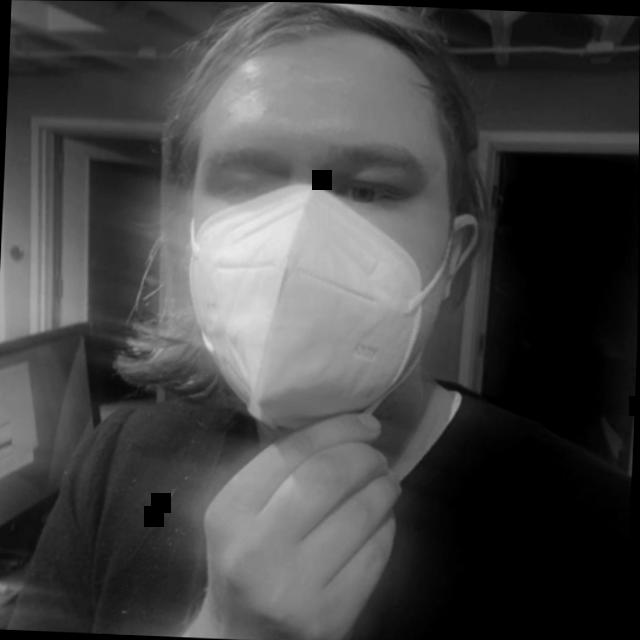Mask: (105, 1, 531, 435)
